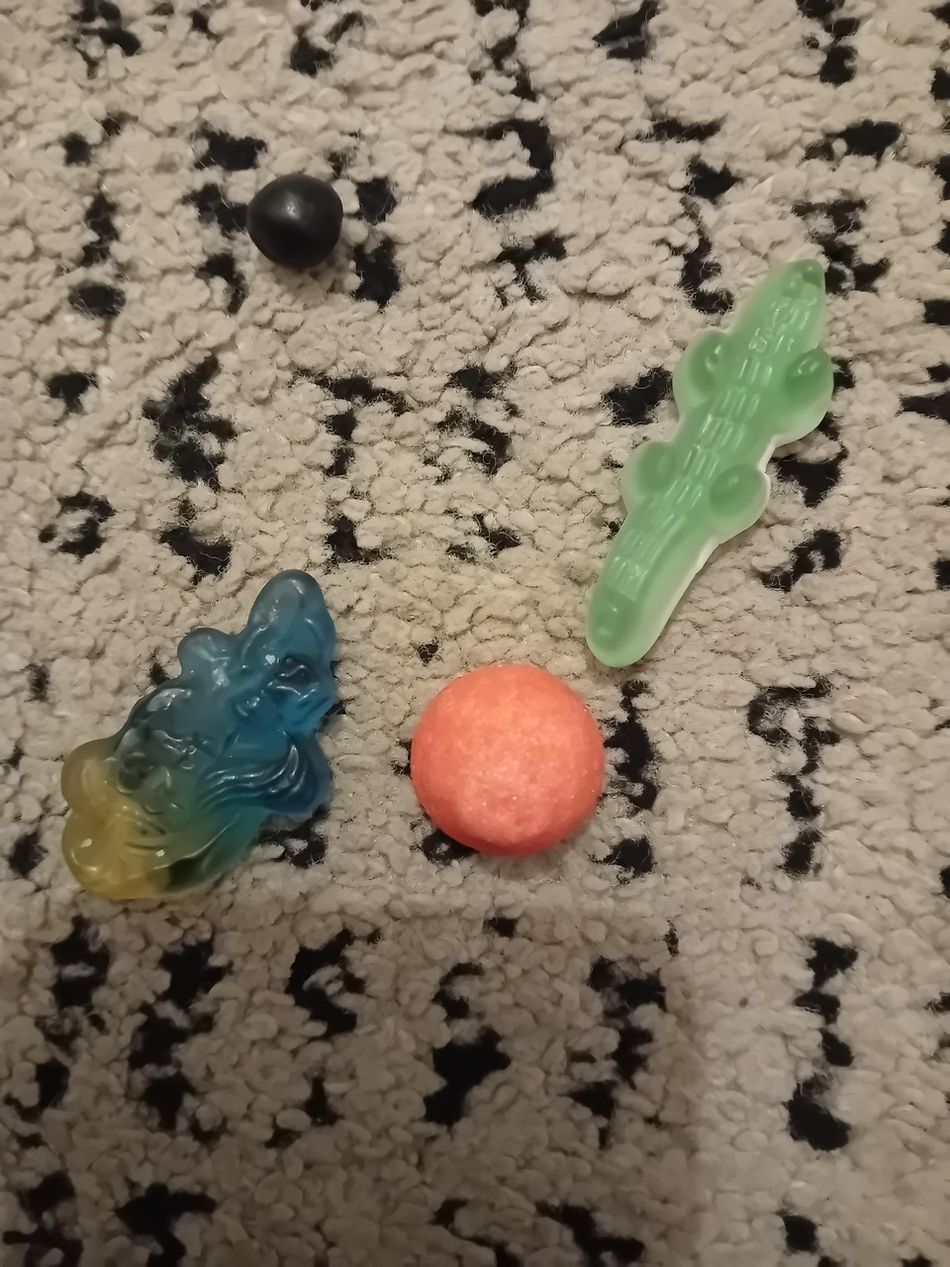crocodile_vert: (570, 256, 844, 673)
dragibus_noir: (245, 164, 347, 275)
schtroumpf_bleu-jaune: (45, 567, 345, 905)
tagada_fraise: (403, 655, 612, 858)
